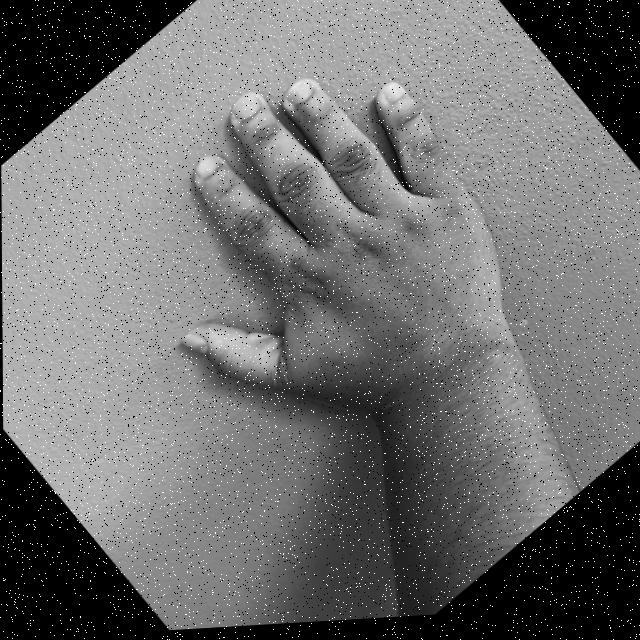hand: (80, 0, 561, 505)
